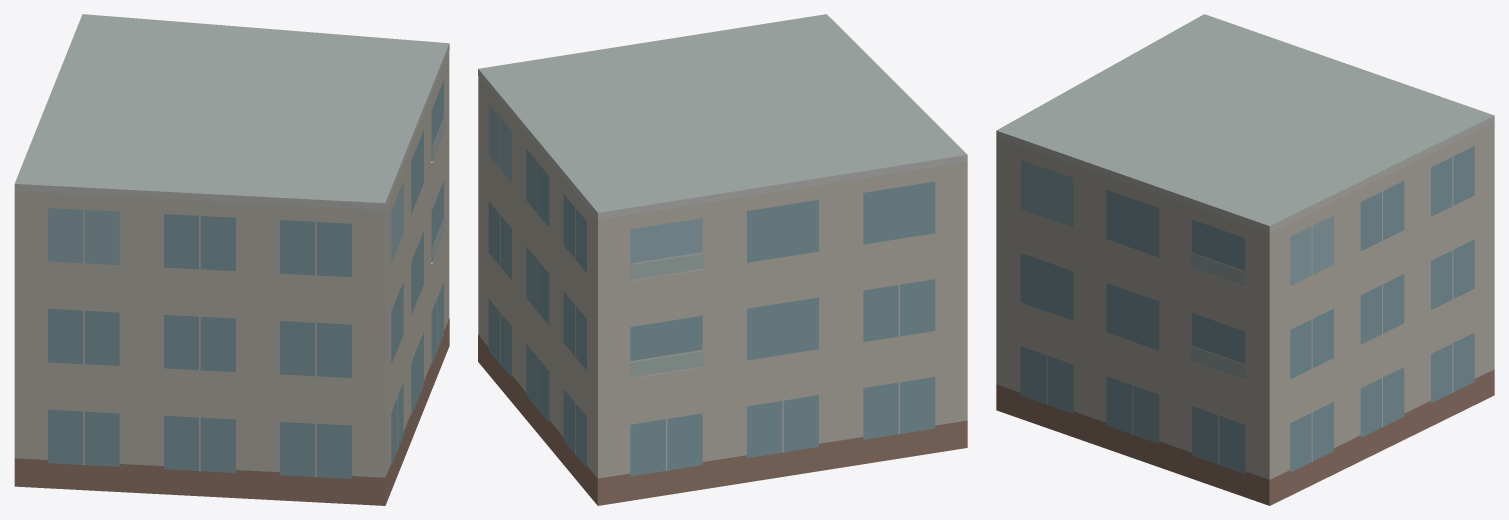
Rendered from survey-upis-32611711.glb.
3 renders of one model, left to right at view 1: azimuth 30°, elevation 25°; view 2: azimuth 150°, elevation 25°; view 3: azimuth 270°, elevation 25°, orthographic. The views are drawn at different scales.
Parts seen in each view (by area): view 1: survey-upis-32611711.tmp; view 2: survey-upis-32611711.tmp; view 3: survey-upis-32611711.tmp.
Part boxes in pixels (x1,y1,x2,y2): survey-upis-32611711.tmp: [14, 14, 449, 505]; survey-upis-32611711.tmp: [478, 14, 967, 505]; survey-upis-32611711.tmp: [996, 14, 1494, 505].
Size of the model in its own units: 16.76 by 10.3 by 16.64.
